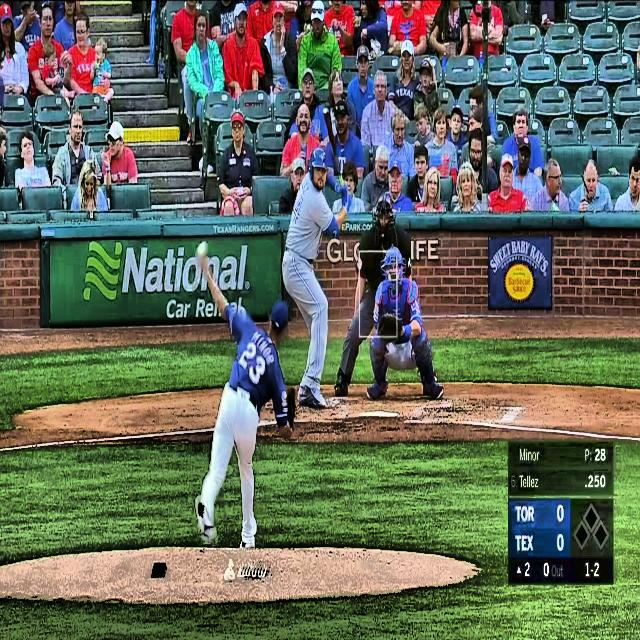baseball: (196, 240, 210, 260)
